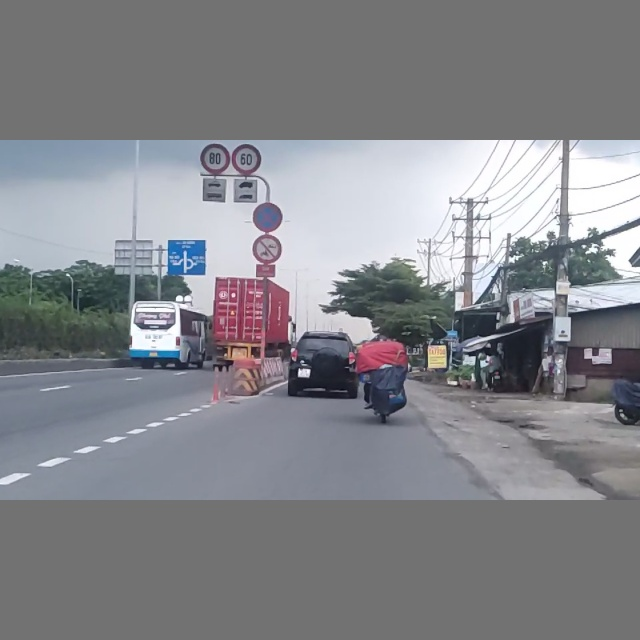P.111: (251, 233, 283, 263)
P.127*60: (232, 144, 262, 175)
P.127*80: (199, 143, 230, 174)
P.130: (252, 202, 283, 232)
